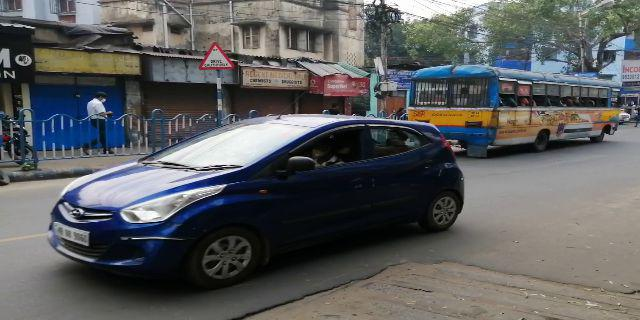Bus: (408, 70, 620, 140)
Car: (56, 114, 463, 263)
